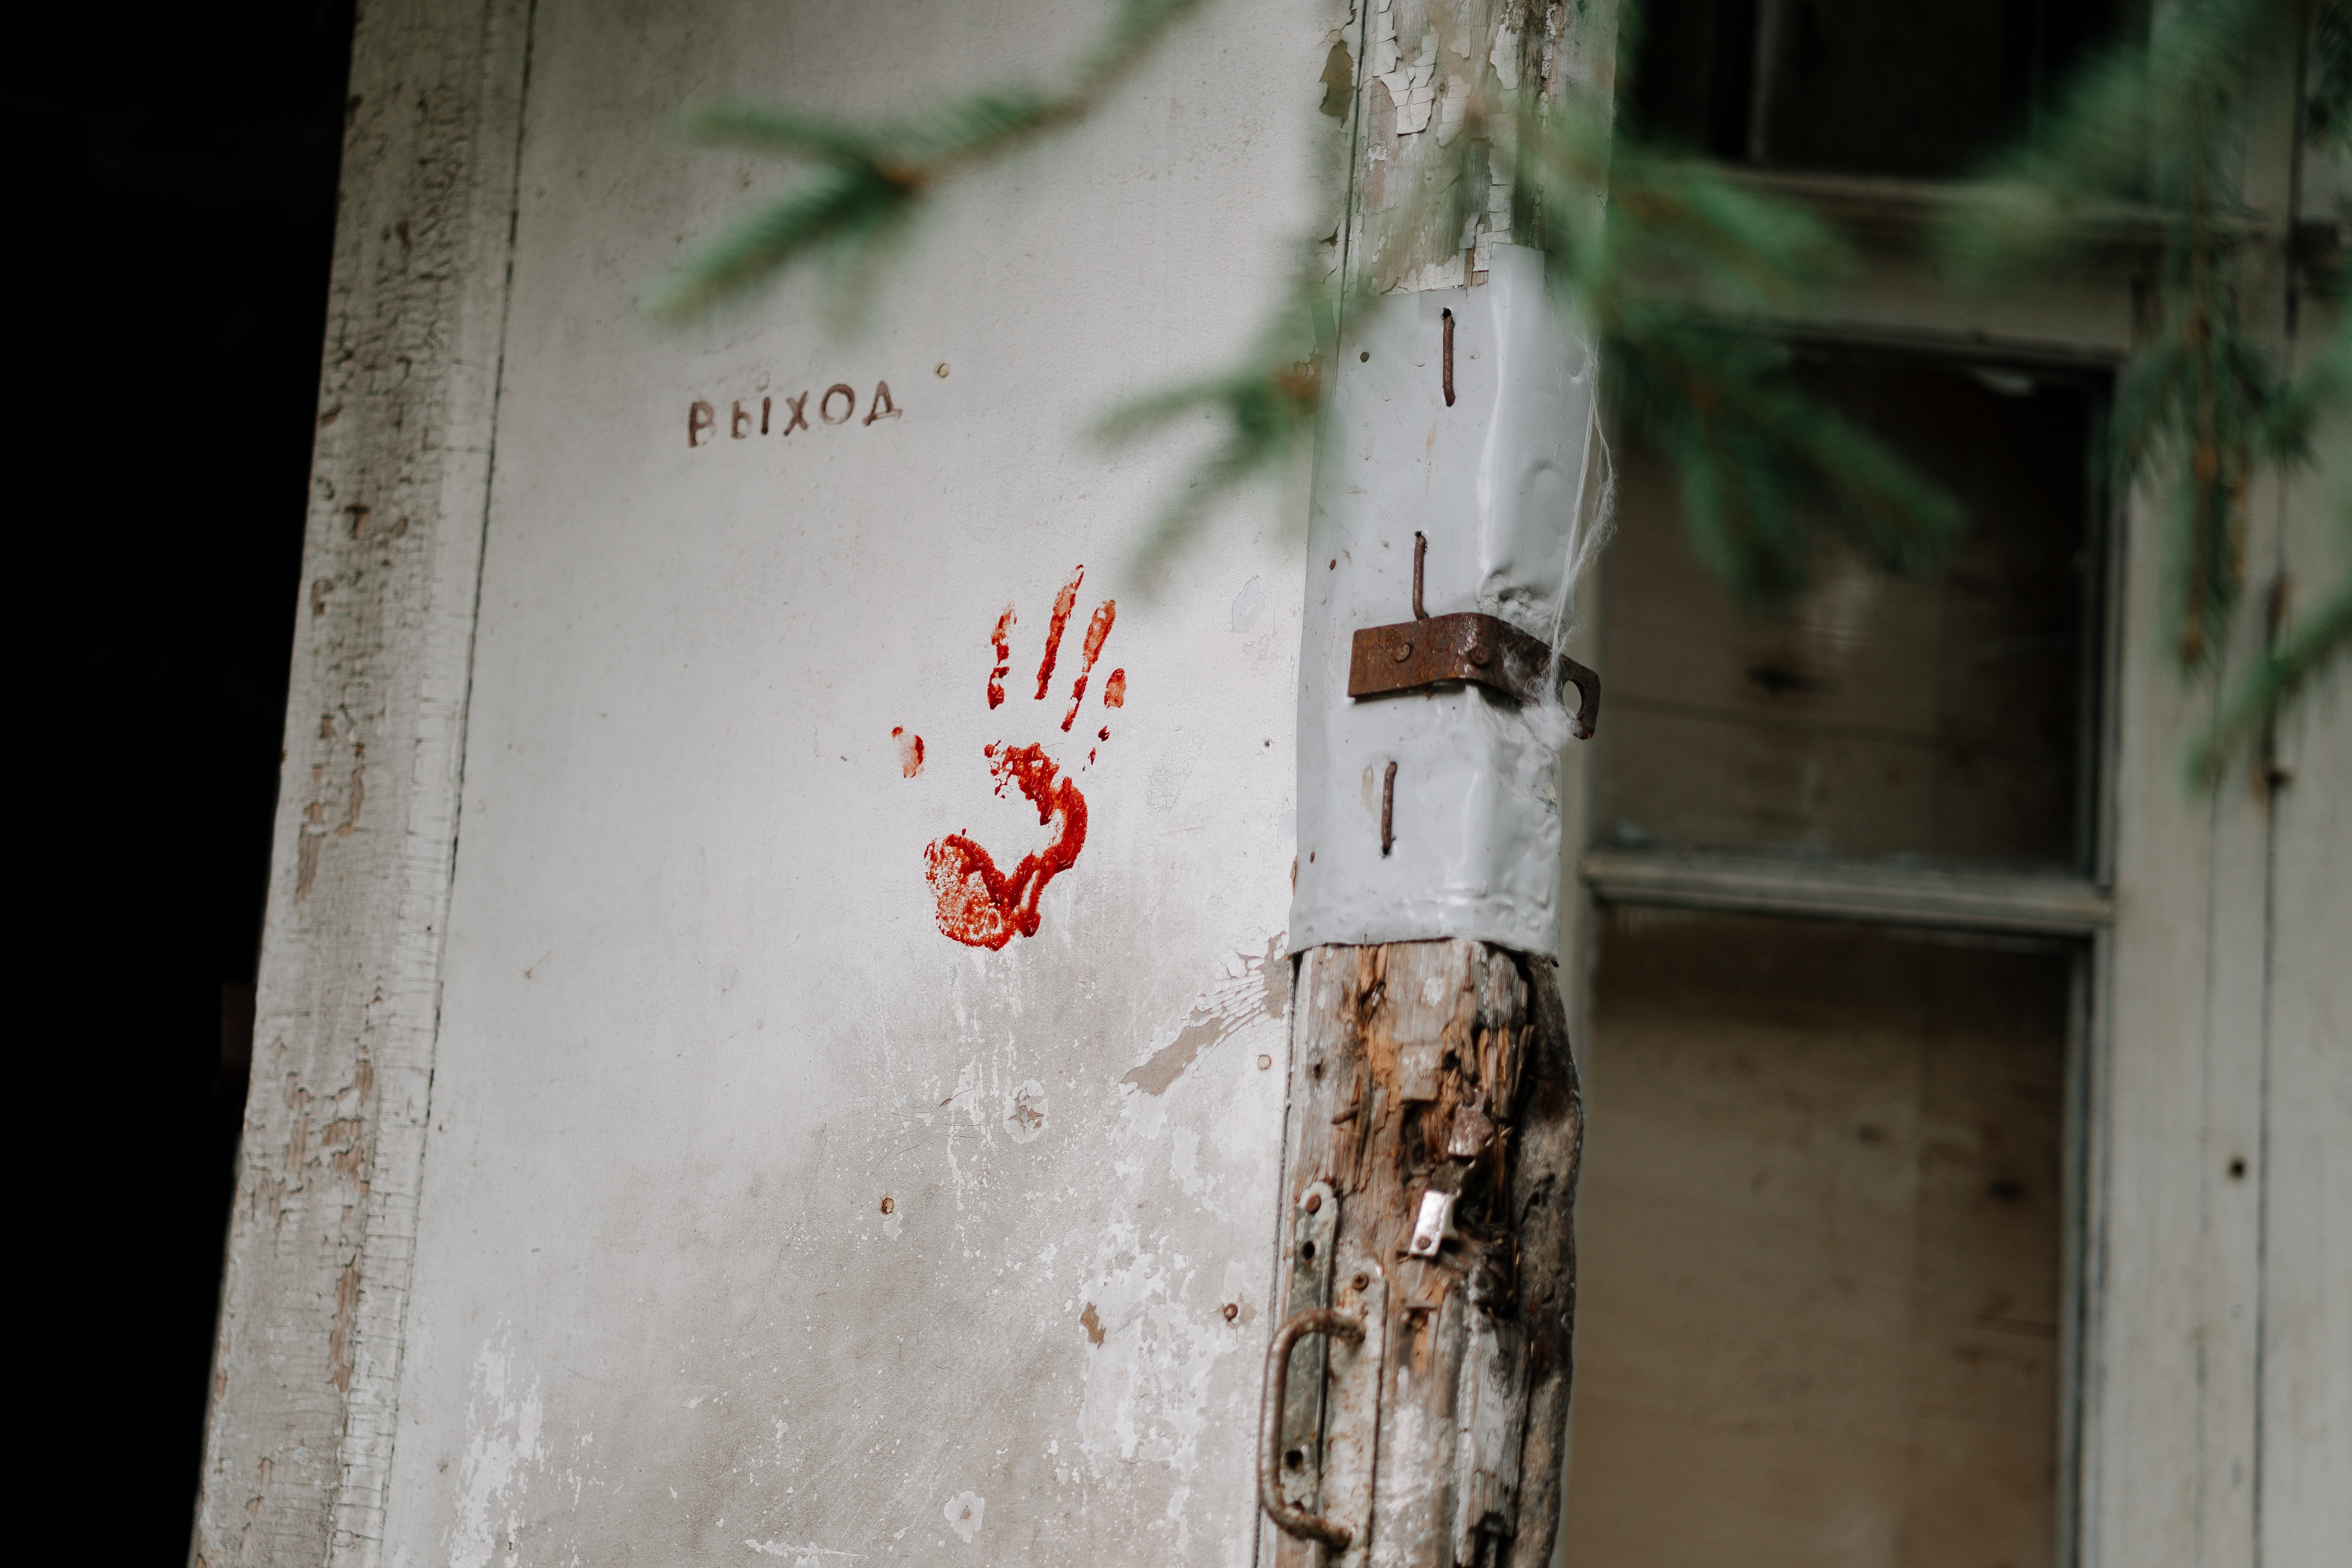blood: (889, 563, 1129, 952)
